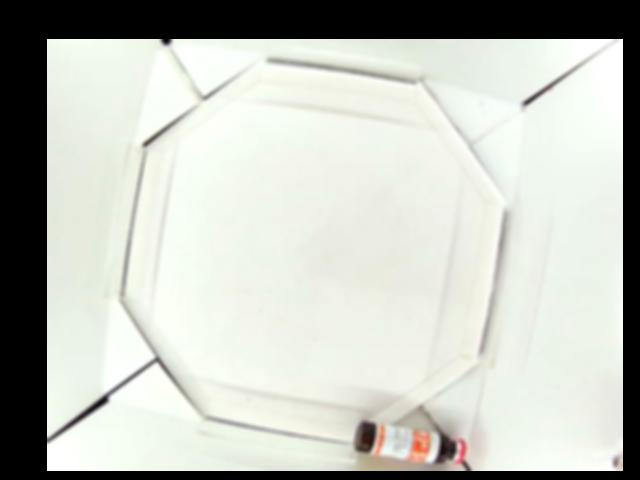Medicine: (354, 416, 468, 465)
